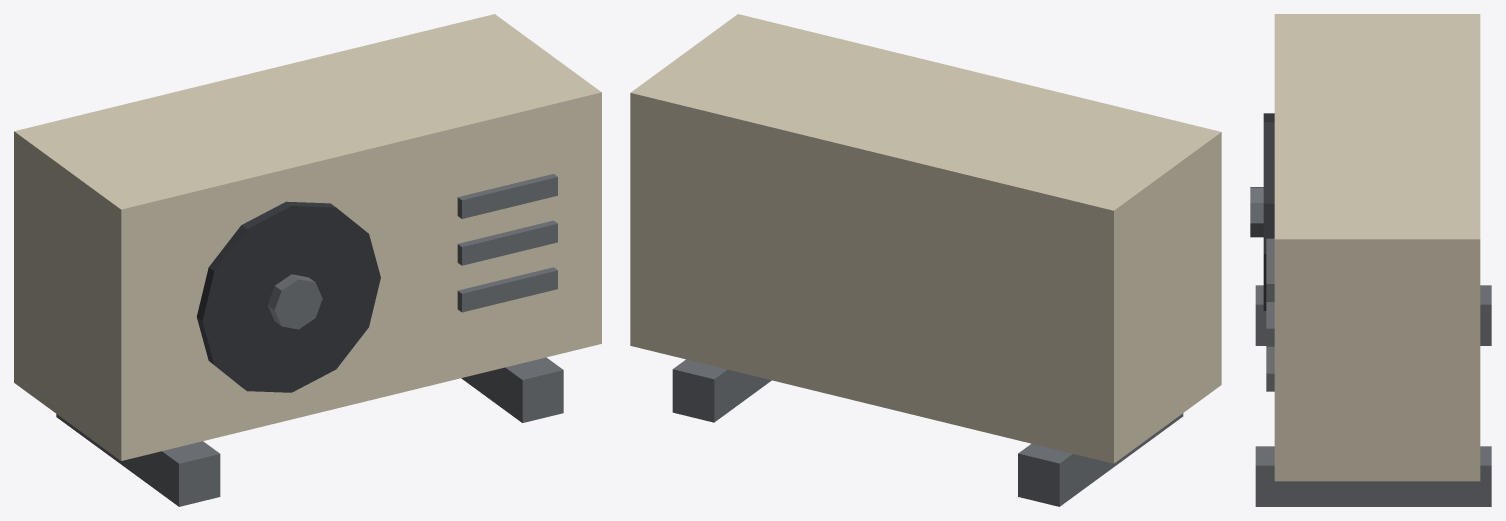
The model's file is building-wall-ac-unit.glb.
The picture shows the model from 3 angles, left to right: view 1: azimuth 30°, elevation 25°; view 2: azimuth 150°, elevation 25°; view 3: azimuth 270°, elevation 25°; orthographic projection. The views are drawn at different scales.
Parts seen in each view (by area): view 1: frontage; view 2: frontage; view 3: frontage.
Boxes of the visible parts, x1=… form: frontage: x1=14, y1=14, x2=601, y2=506; frontage: x1=630, y1=14, x2=1221, y2=506; frontage: x1=1250, y1=14, x2=1491, y2=506.
Size of the model in its own units: 0.7 by 0.42 by 0.317.
